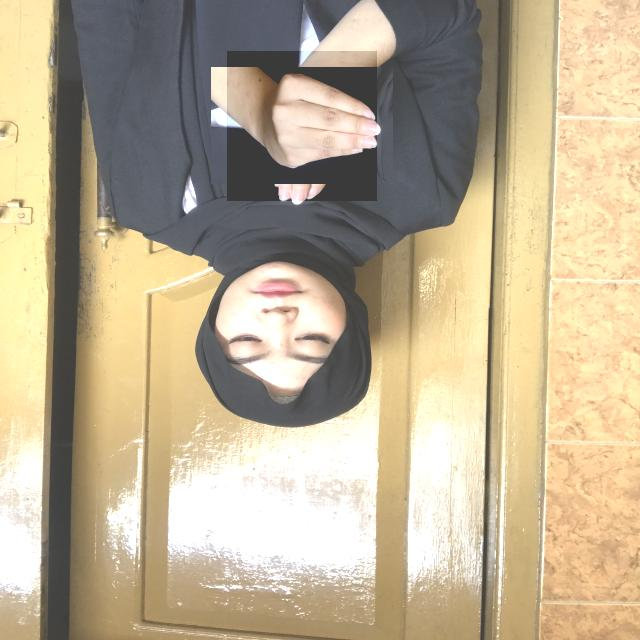kapan: (227, 51, 377, 201)
